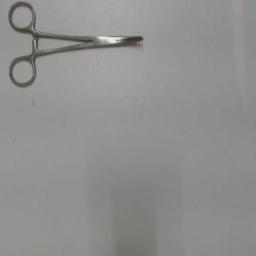Crile Artery Forceps: (7, 0, 147, 88)
